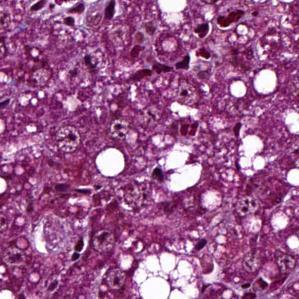ballooning: (131, 248, 203, 299), (147, 143, 203, 191), (237, 132, 269, 181), (91, 144, 129, 179)
